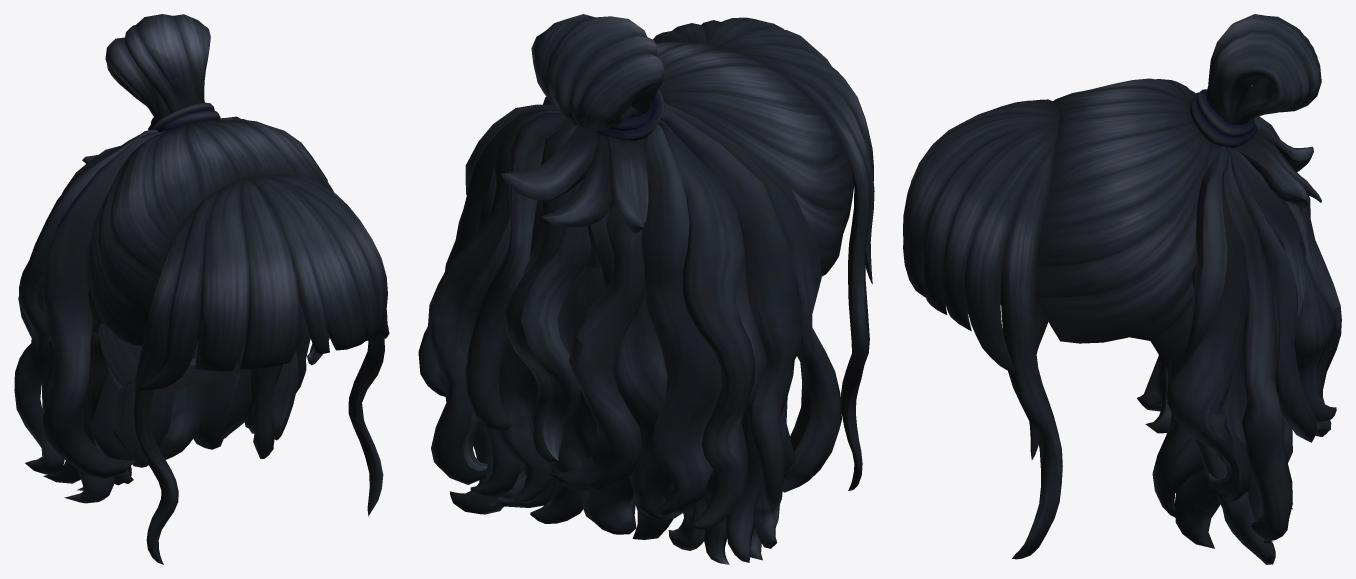
File: hair14.glb
3 renders of one model, left to right at view 1: azimuth 30°, elevation 25°; view 2: azimuth 150°, elevation 25°; view 3: azimuth 270°, elevation 25°, orthographic. The views are drawn at different scales.
Parts seen in each view (by area): view 1: s4studio_mesh_1; view 2: s4studio_mesh_1; view 3: s4studio_mesh_1.
Boxes of the visible parts, left/top/right/bottom form: s4studio_mesh_1: left=14, top=14, right=389, bottom=564; s4studio_mesh_1: left=418, top=14, right=874, bottom=564; s4studio_mesh_1: left=903, top=14, right=1341, bottom=564.
Size of the model in its own units: 0.2257 by 0.2974 by 0.2388.
Materials: 1 (1 with a texture image).
